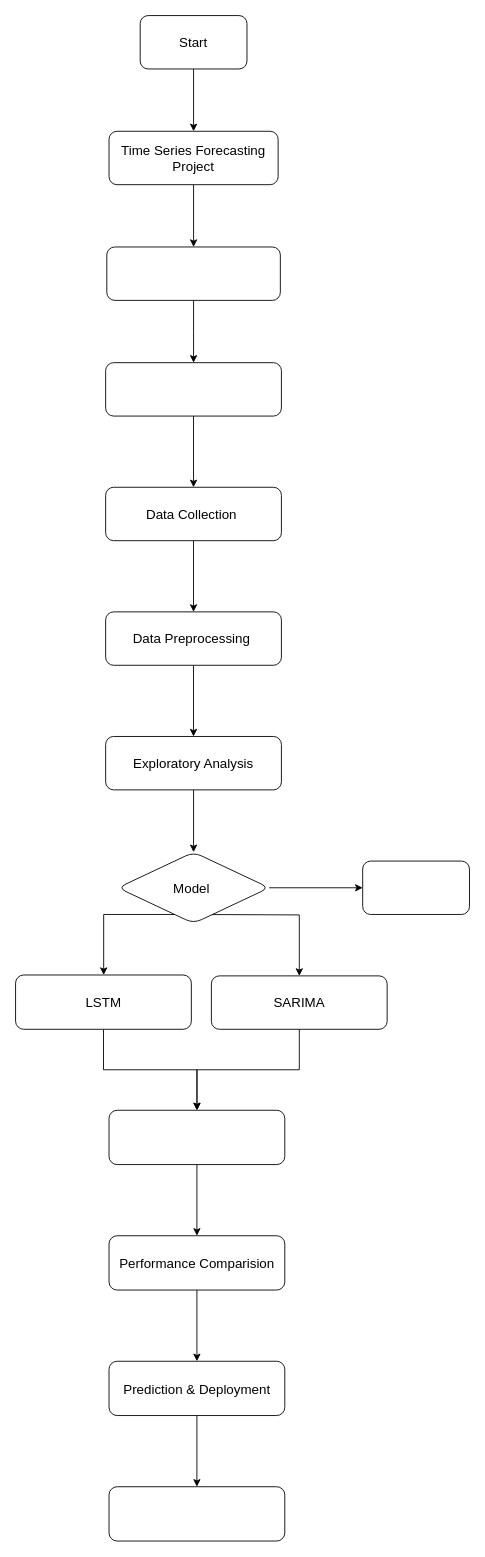
Image size: 485x1557. Some labels were removed from this diagram. The shapes that lost their labels are listed below. From the top down, each one's centre as x and y in pixels, then its label:
the point at 193,273: Environment Setup
the point at 193,389: Problem Definition
the point at 415,887: ARIMA
the point at 196,1137: Model Evaluation
the point at 196,1513: End
